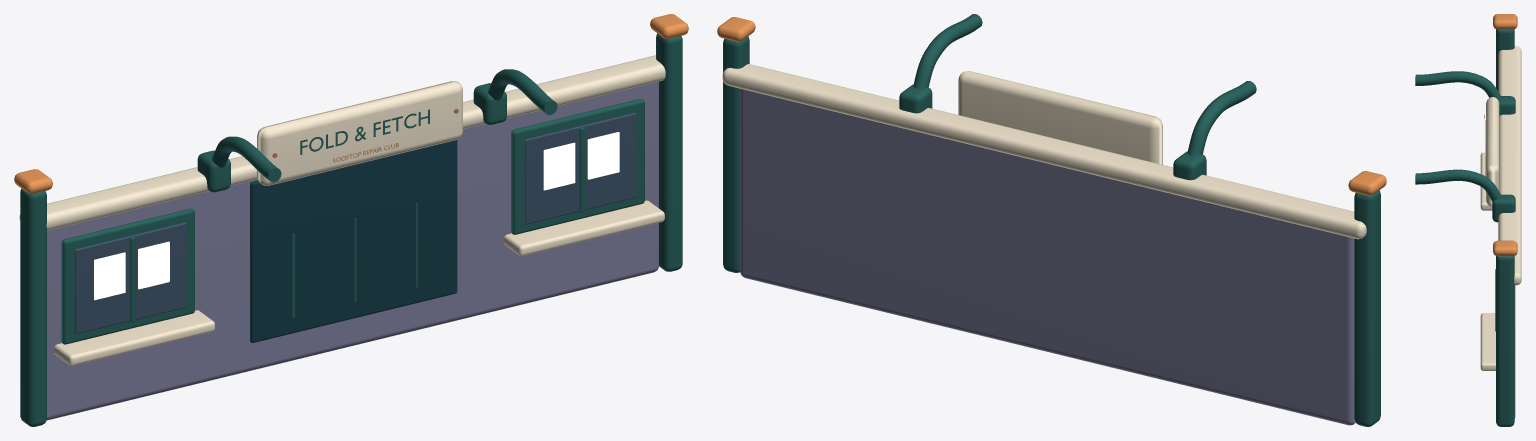
File: workshop_frame.glb
3 views of the same model, side by side, from view 1: azimuth 30°, elevation 25°; view 2: azimuth 150°, elevation 25°; view 3: azimuth 270°, elevation 25° (orthographic). The views are drawn at different scales.
Visible parts, largest first — view 1: workshop_frame_mesh; view 2: workshop_frame_mesh; view 3: workshop_frame_mesh.
Part boxes in pixels (<box>): workshop_frame_mesh: <box>14,14,688,426</box>; workshop_frame_mesh: <box>717,14,1386,426</box>; workshop_frame_mesh: <box>1415,14,1521,426</box>.
Size of the model in its own units: 8.39 by 3.19 by 1.6.
